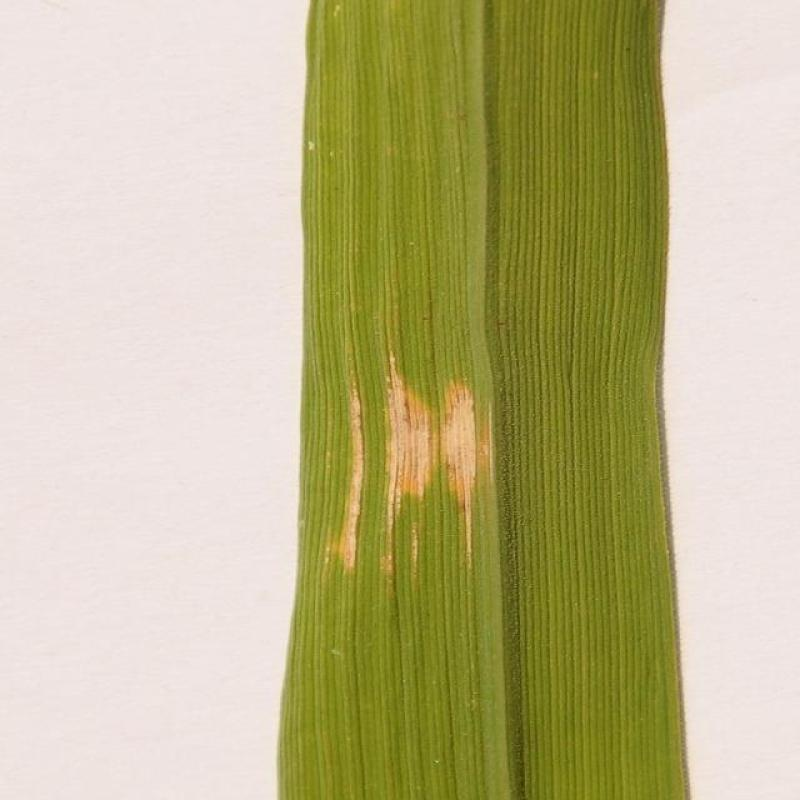Bacterial_Leaf_Blight: (324, 274, 510, 604)
